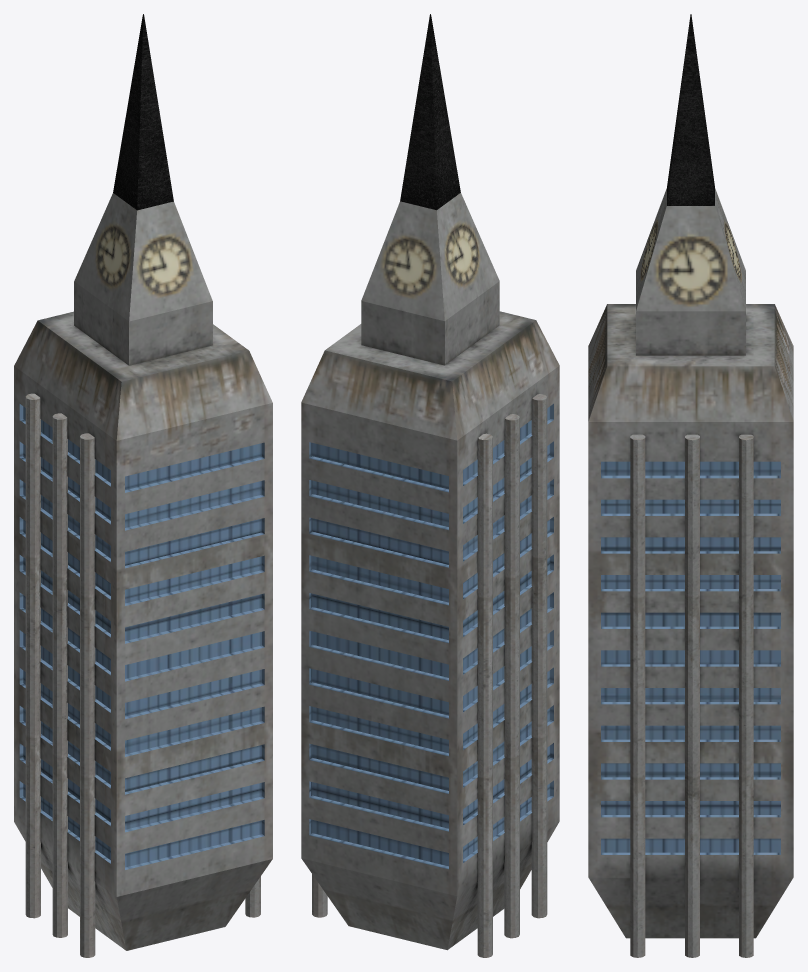
Rendered from Building_2.dae.
3 renders of one model, left to right at view 1: azimuth 30°, elevation 25°; view 2: azimuth 150°, elevation 25°; view 3: azimuth 270°, elevation 25°, orthographic.
Visible parts, largest first — view 1: bulding2; view 2: bulding2; view 3: bulding2.
Part boxes in pixels (bbox=[...]): bulding2: bbox=[14, 14, 272, 957]; bulding2: bbox=[301, 14, 559, 957]; bulding2: bbox=[588, 14, 793, 957].
Size of the model in its own units: 15.17 by 72.99 by 15.07.
Materials: 1 (1 with a texture image).
